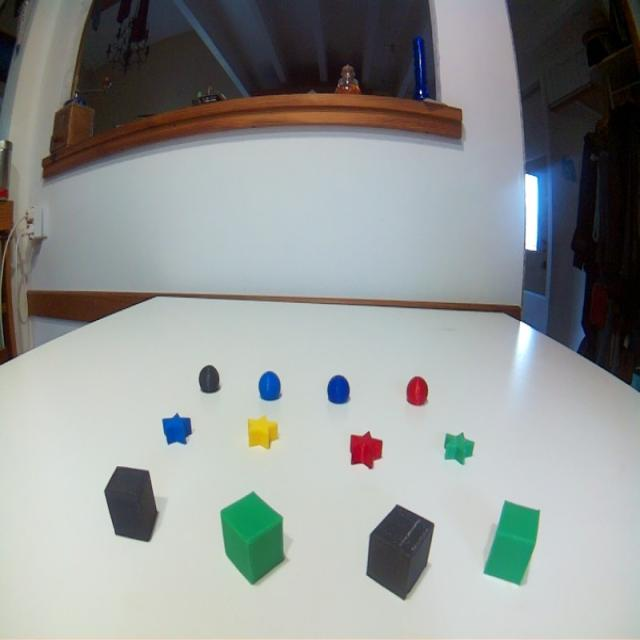ball: (404, 373, 432, 411), (256, 368, 284, 404), (325, 372, 352, 408), (198, 362, 221, 398)
cube: (218, 487, 290, 591), (364, 500, 436, 602), (480, 494, 542, 592), (99, 461, 161, 549)
star: (344, 427, 388, 474), (441, 427, 479, 475), (244, 412, 282, 451), (158, 410, 195, 447)
